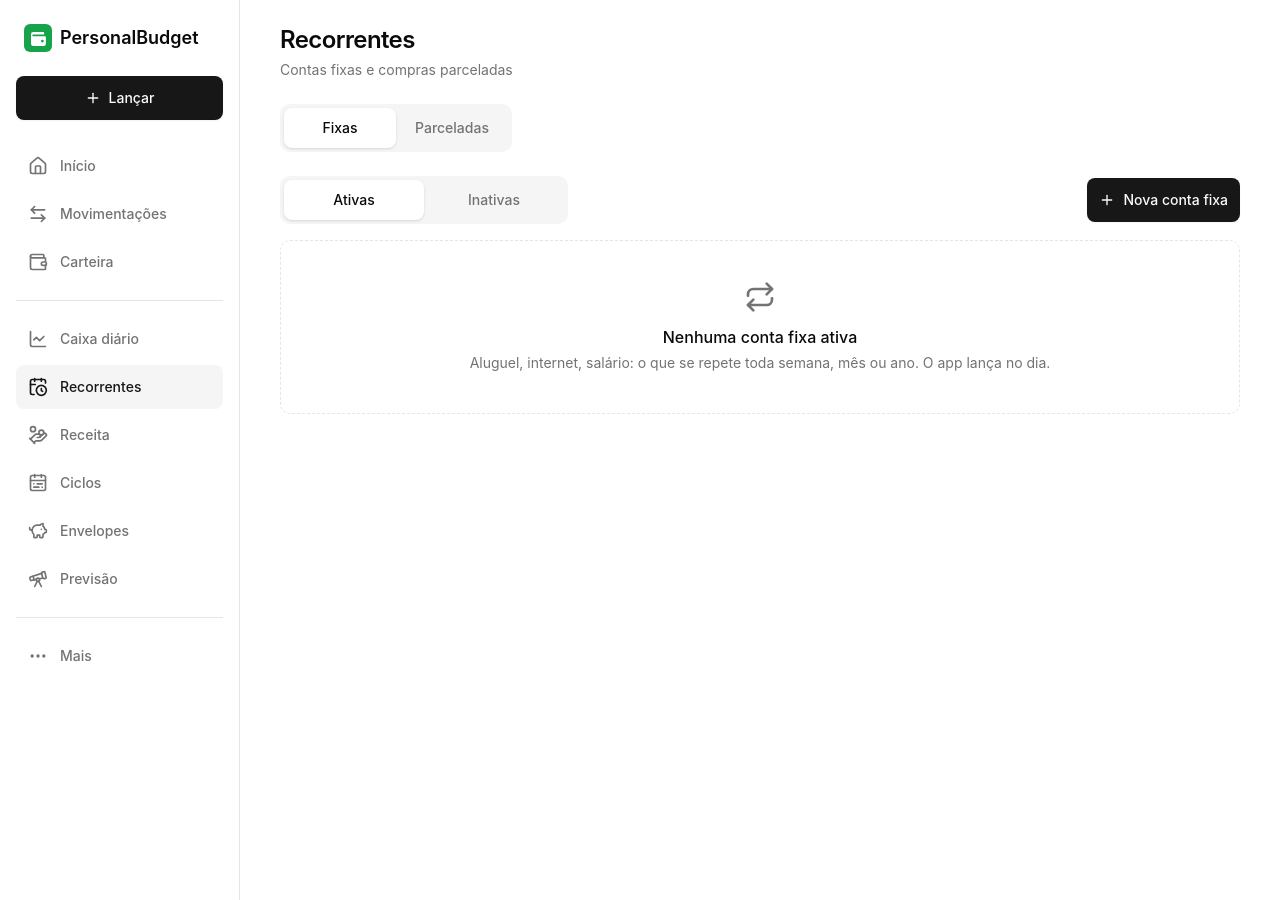
Scenario: Recorrentes › Contas fixas › should put a 400 on the field it names and on the days picker
Step 1. Click the button "Nova conta fixa" → coordinates (1164, 200), box [1088, 178, 1240, 222]
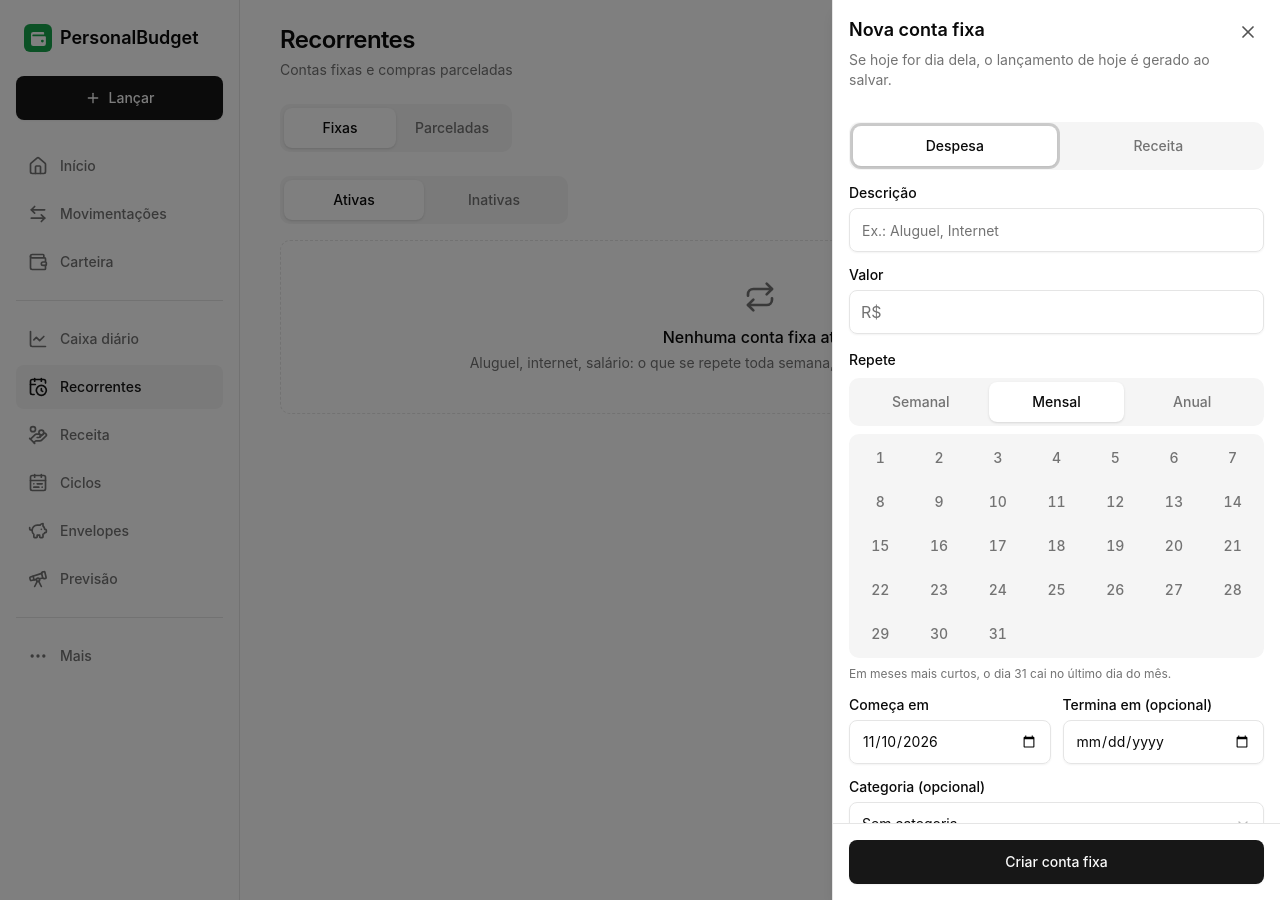
Step 2. Type "Aluguel" into the field labelled "Descrição" → coordinates (1056, 230), box [849, 208, 1264, 252]
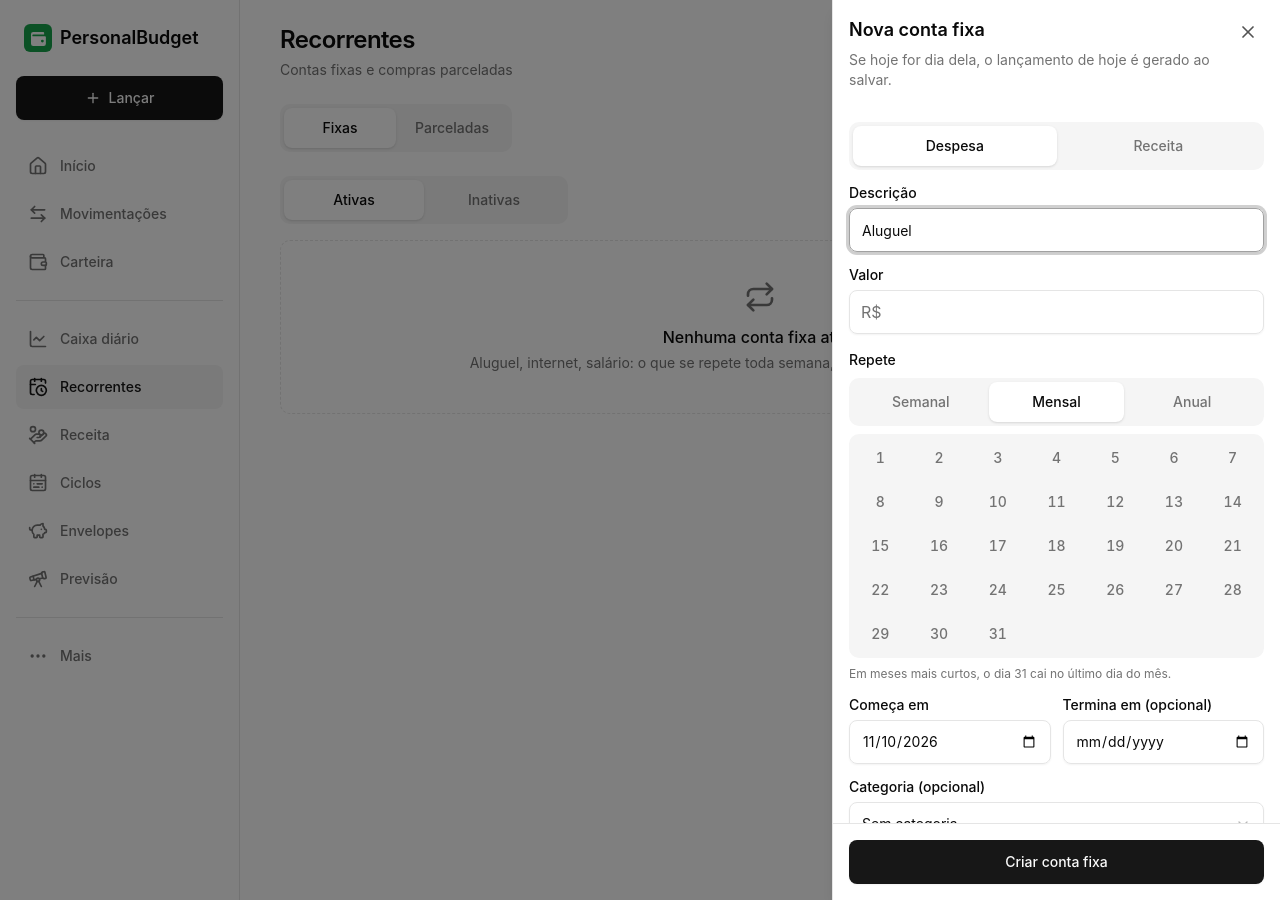
Step 3. Type "1500" into the field labelled "Valor" → coordinates (1056, 312), box [849, 290, 1264, 334]
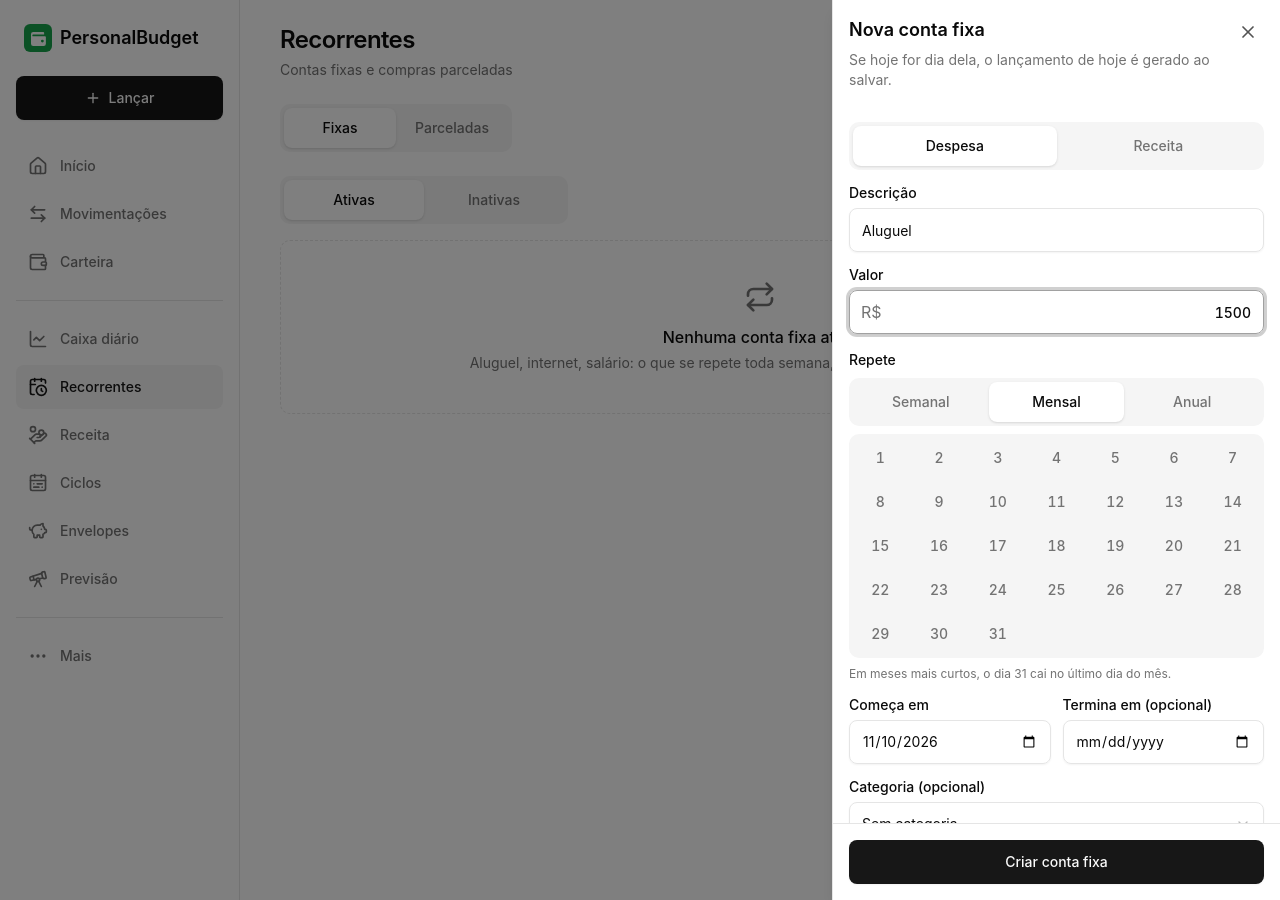
Step 4. Click the button named "Dia 5" → coordinates (1115, 458), box [1088, 438, 1142, 478]
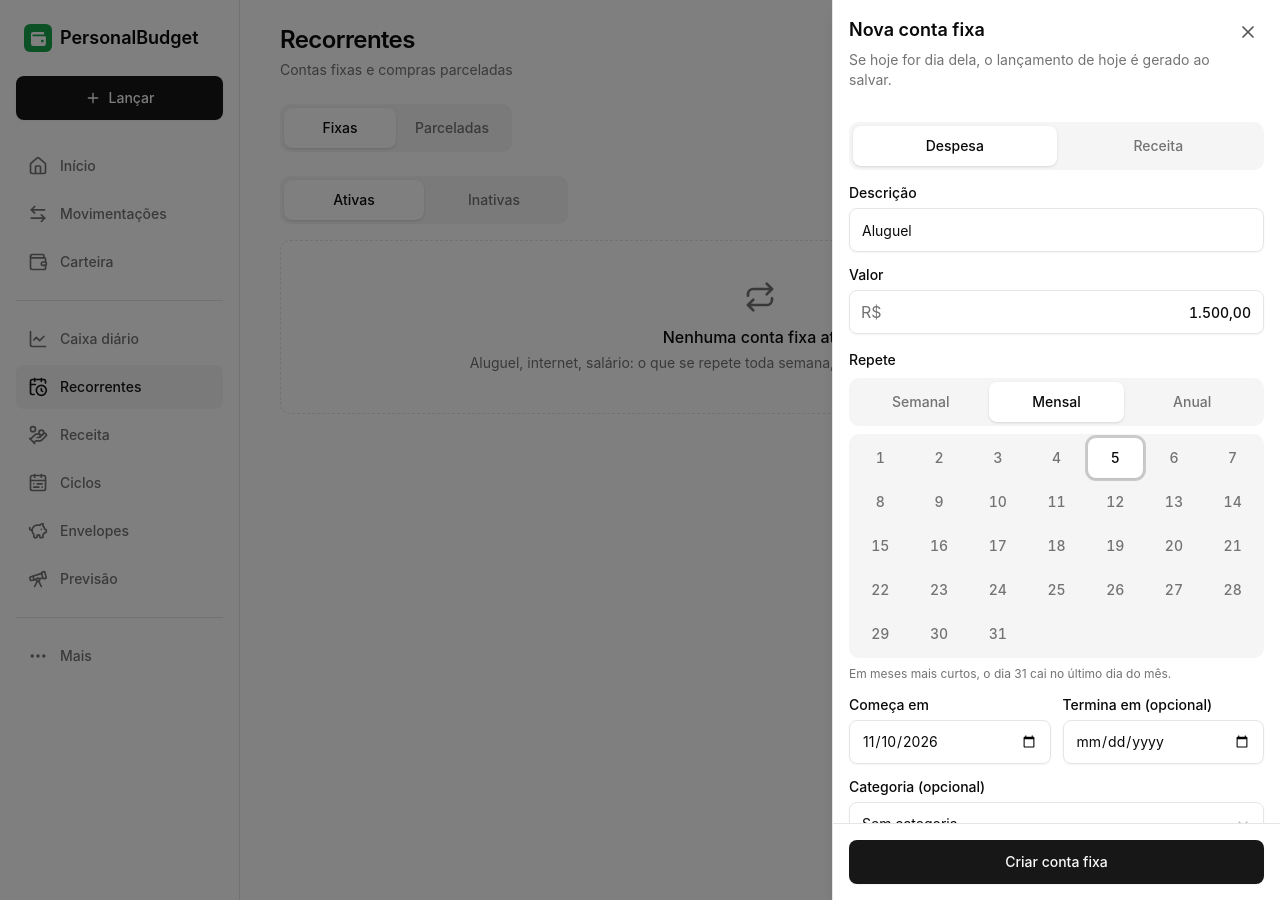
Step 5. Click the button "Criar conta fixa" → coordinates (1056, 862), box [849, 840, 1264, 884]
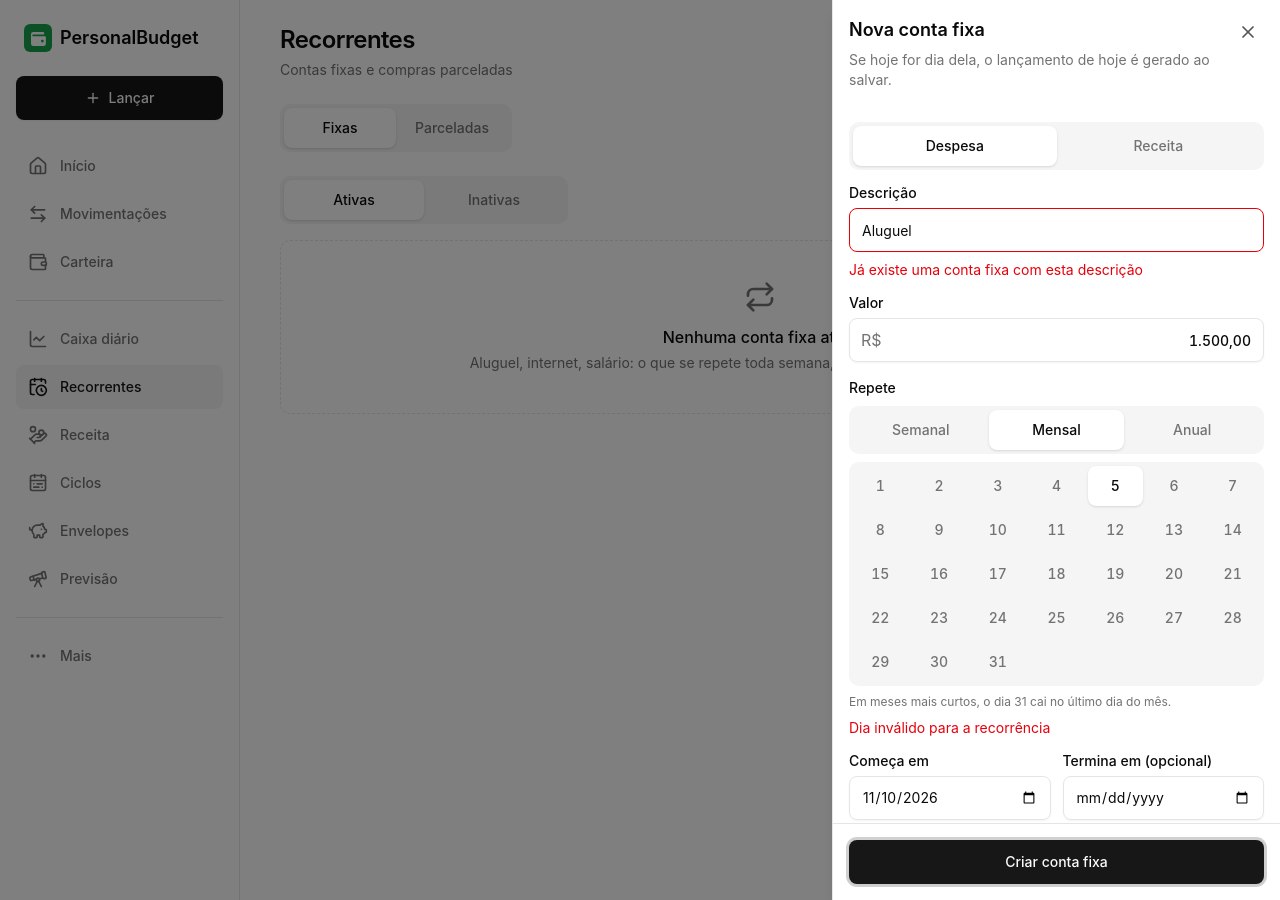
Check: the text "Já existe uma conta fixa com esta descrição" is shown, box [849, 261, 1143, 278]
Check: the text "Dia inválido para a recorrência" is shown, box [849, 719, 1050, 736]
